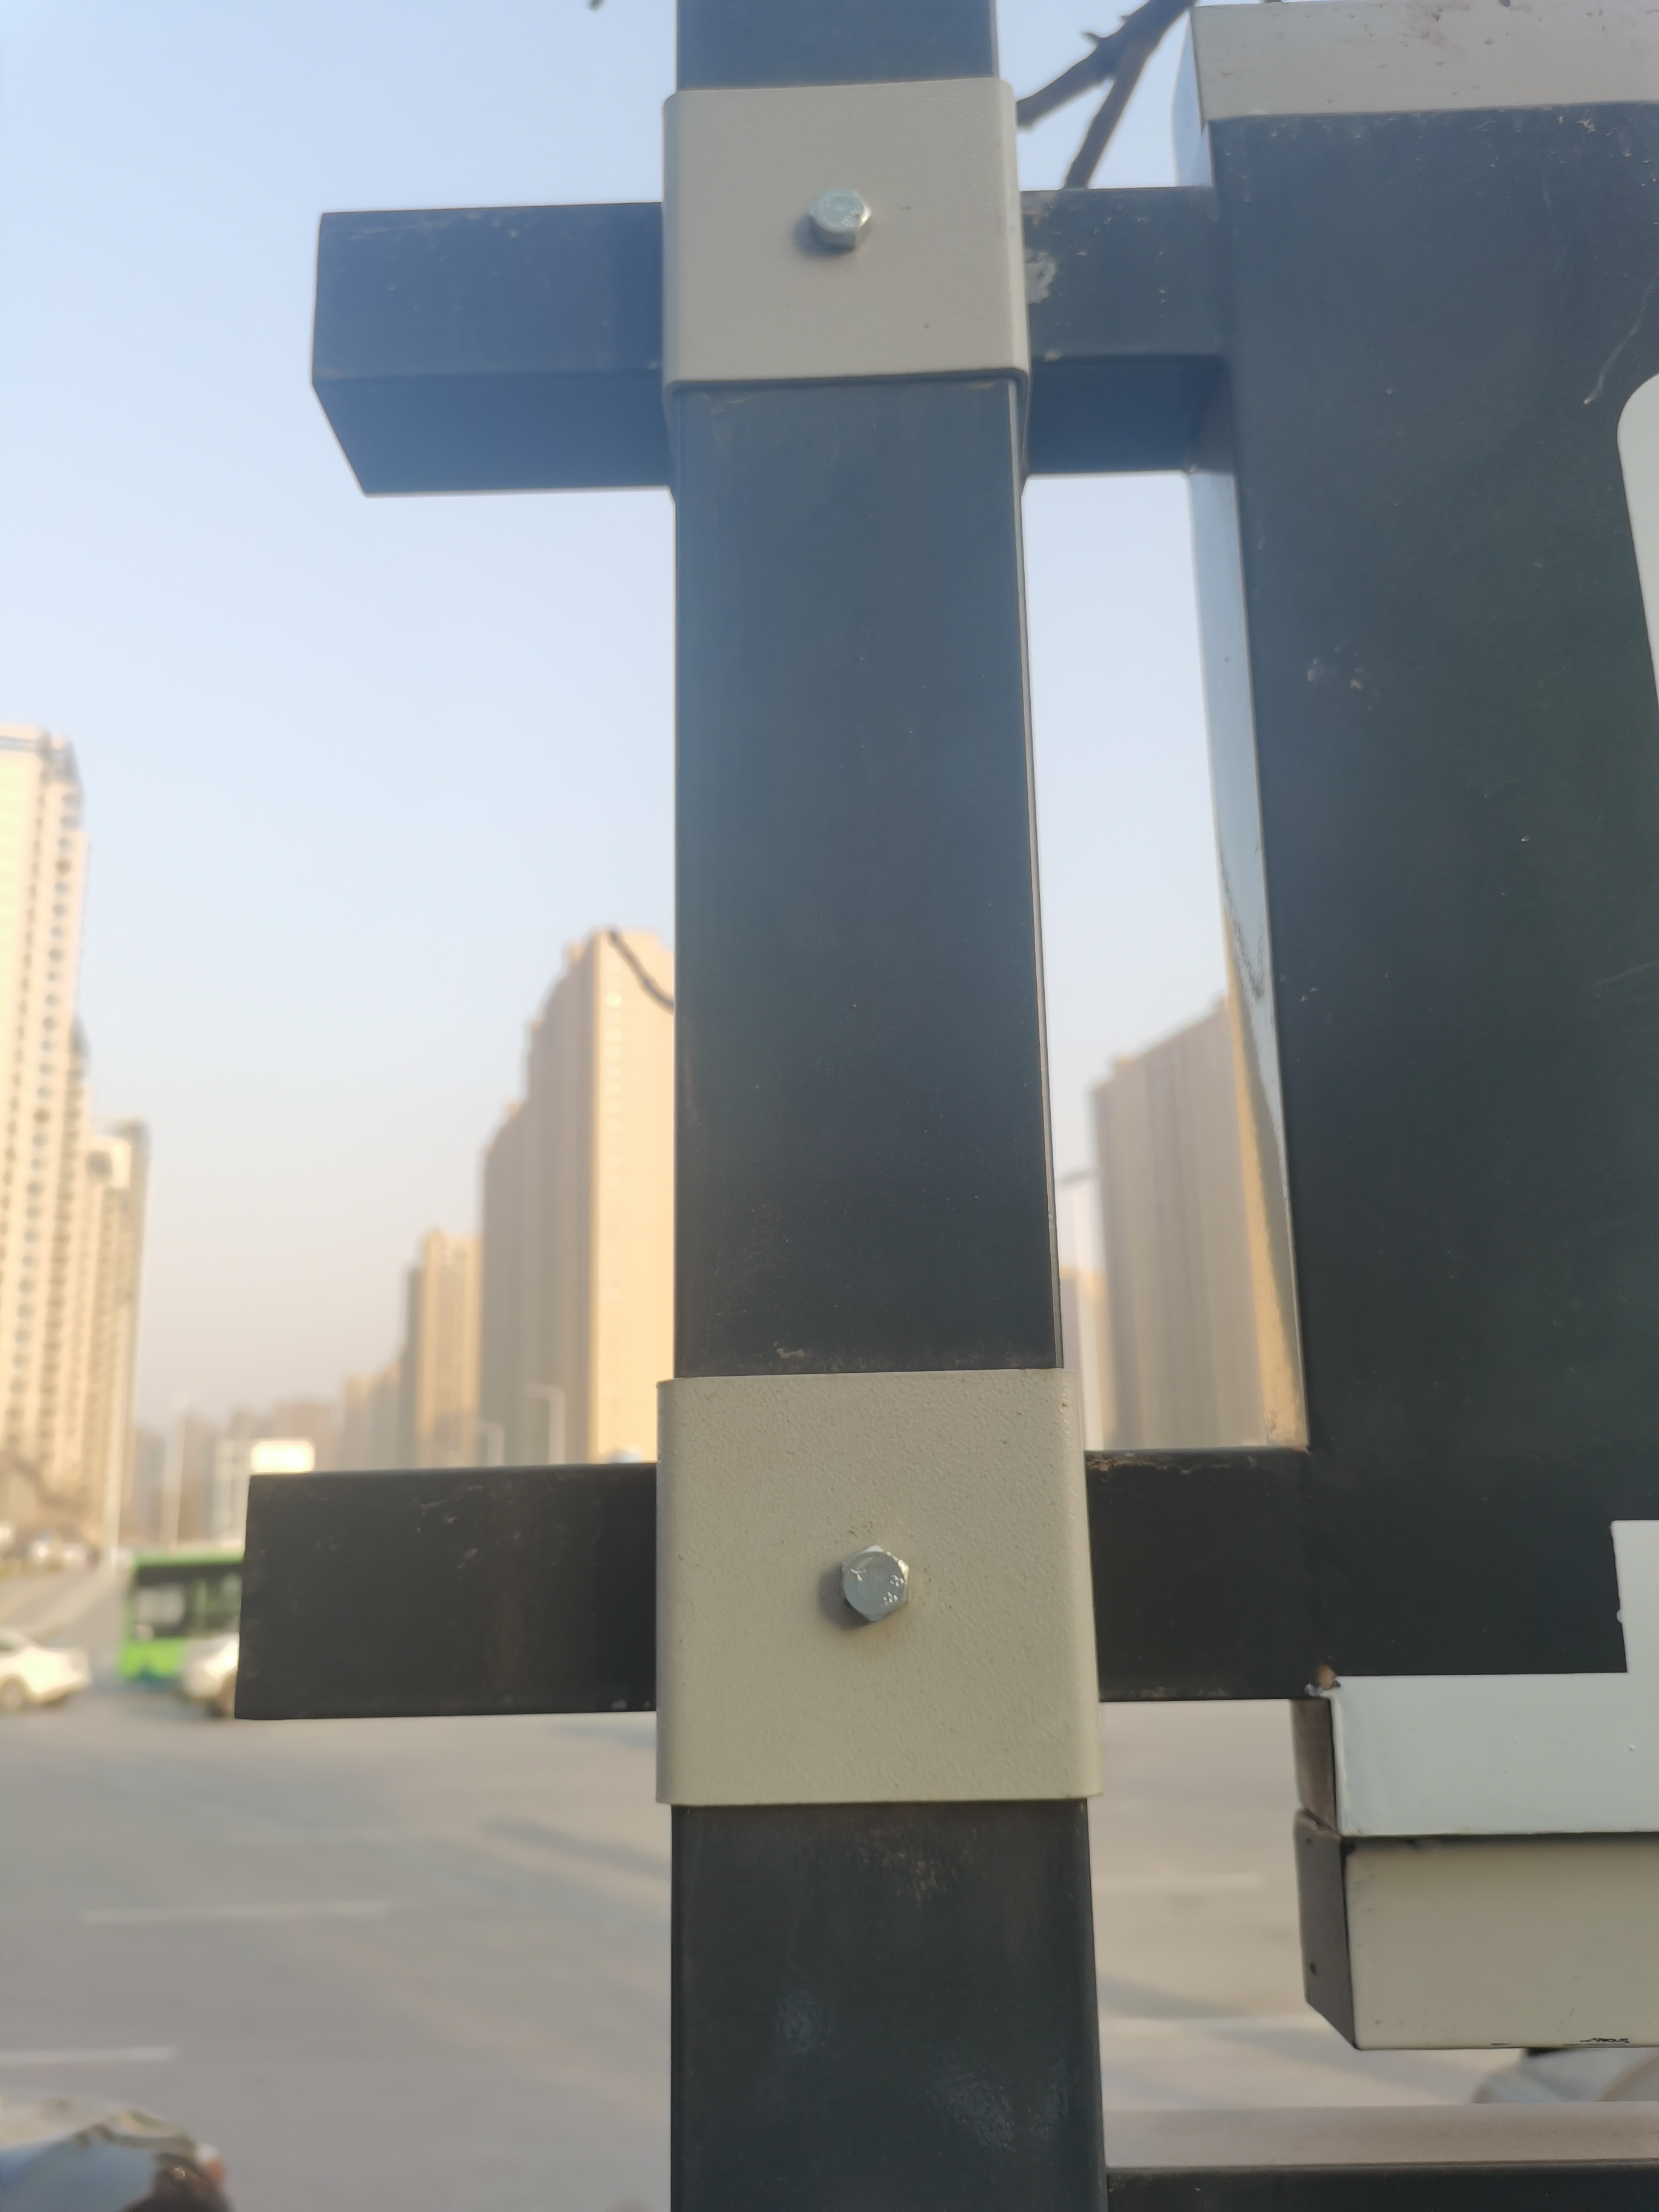bolt_a: (836, 1540, 913, 1627), (802, 183, 884, 256)
